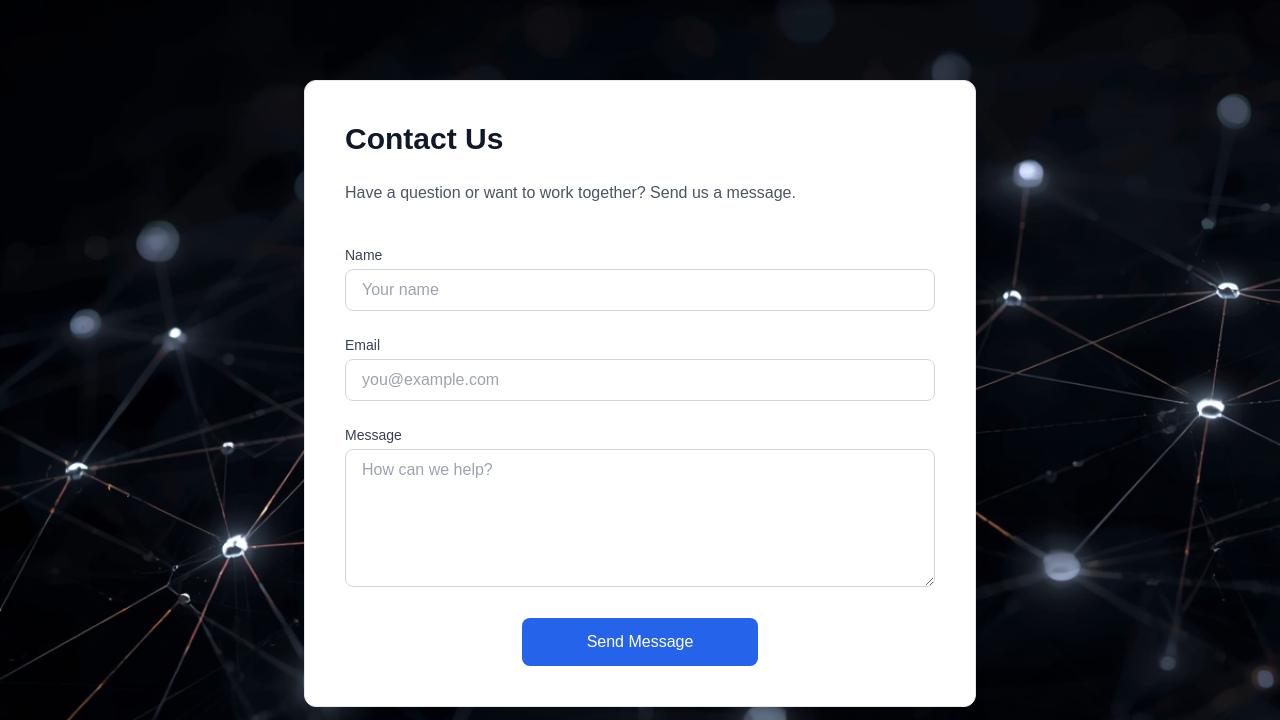
Test case: Contact Page › submits form successfully
In the field with placeholder "Your name": (640, 290) [345,269,935,311], type "John Doe"
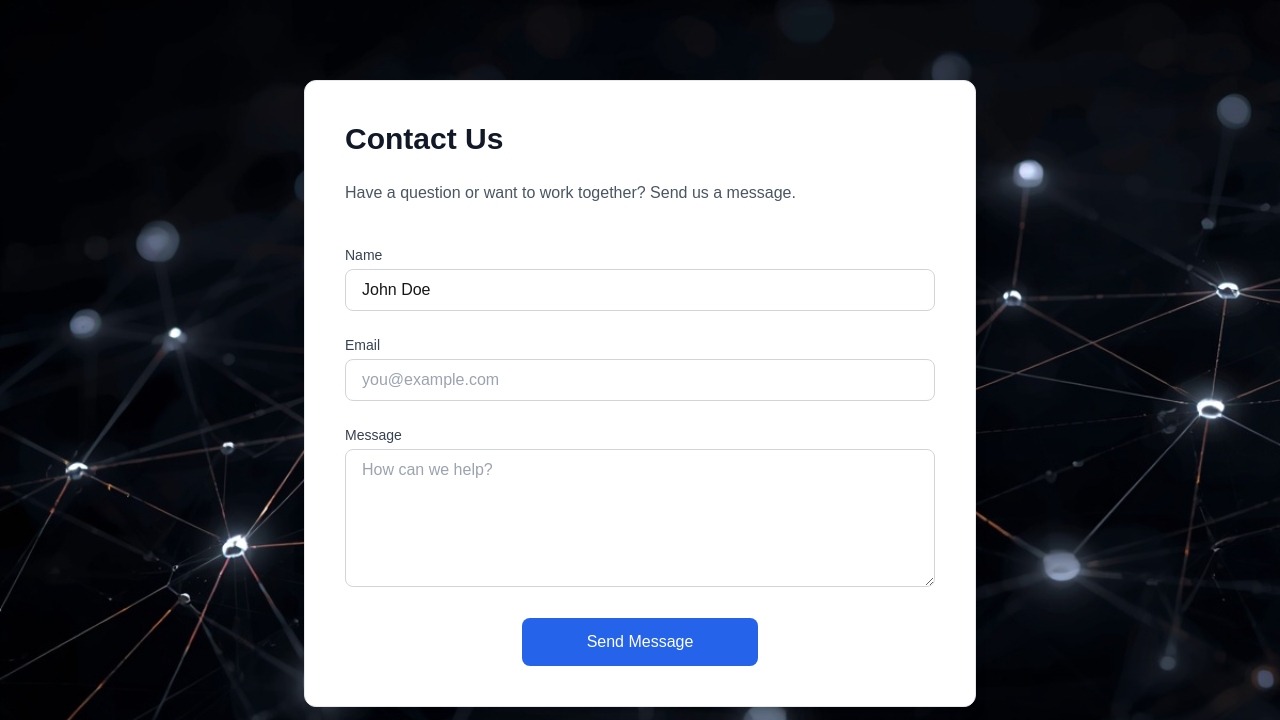
In the field with placeholder "you@example.com": (640, 380) [345,359,935,401], type "john@example.com"
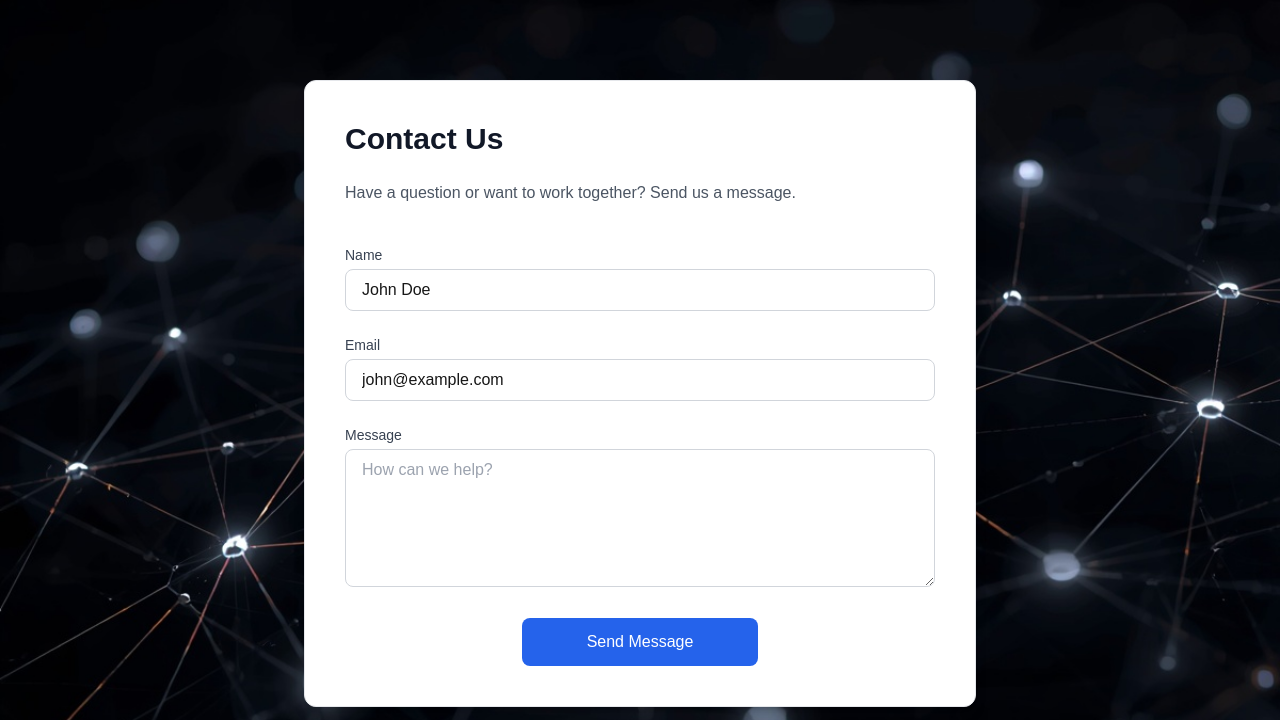
In the text box with placeholder "How can we help?": (640, 518) [345,449,935,587], type "Hello world"
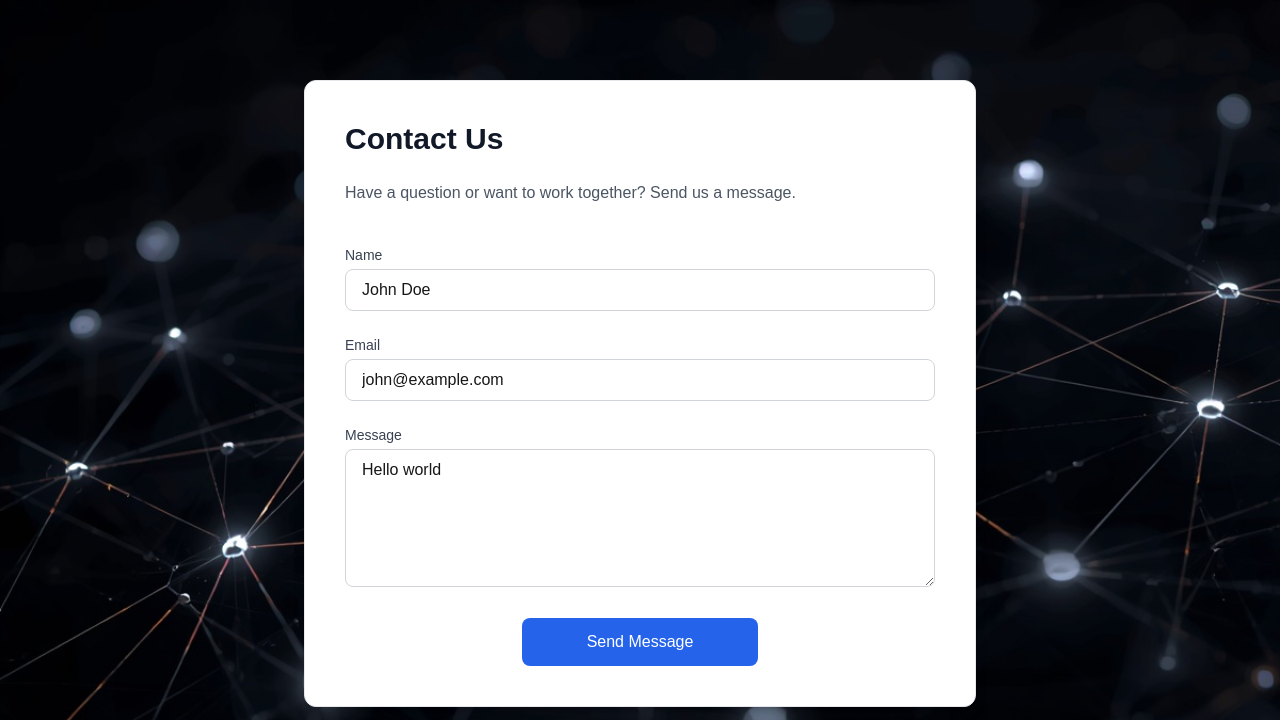
Click the button "Send Message": (640, 642) [522,618,758,666]
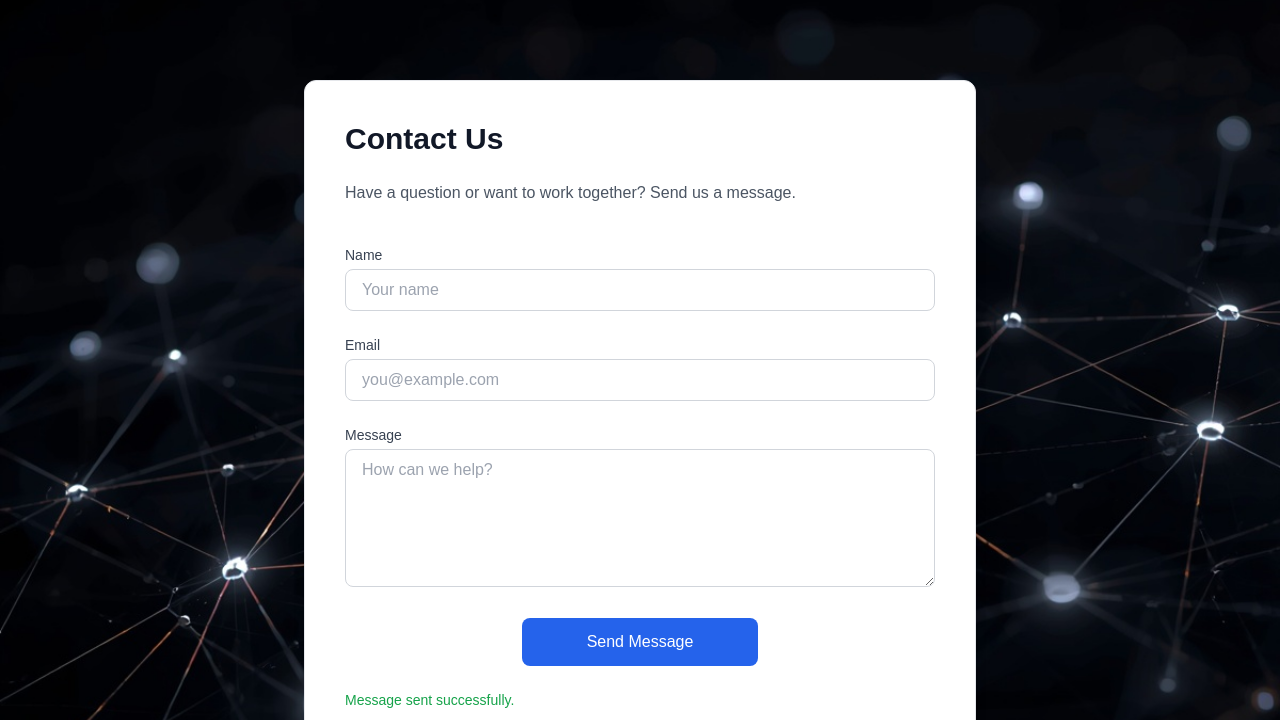
Check: the text "Message sent successfully." is shown, box [345,692,514,708]
